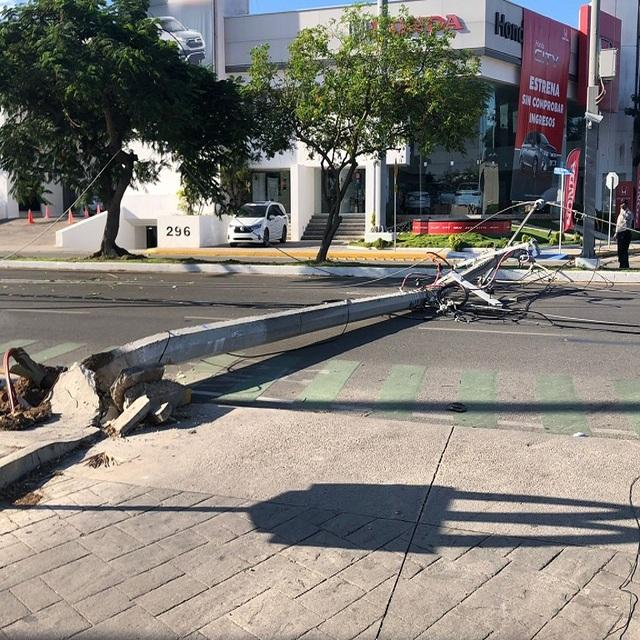Inclined Pole: (48, 231, 537, 437)
